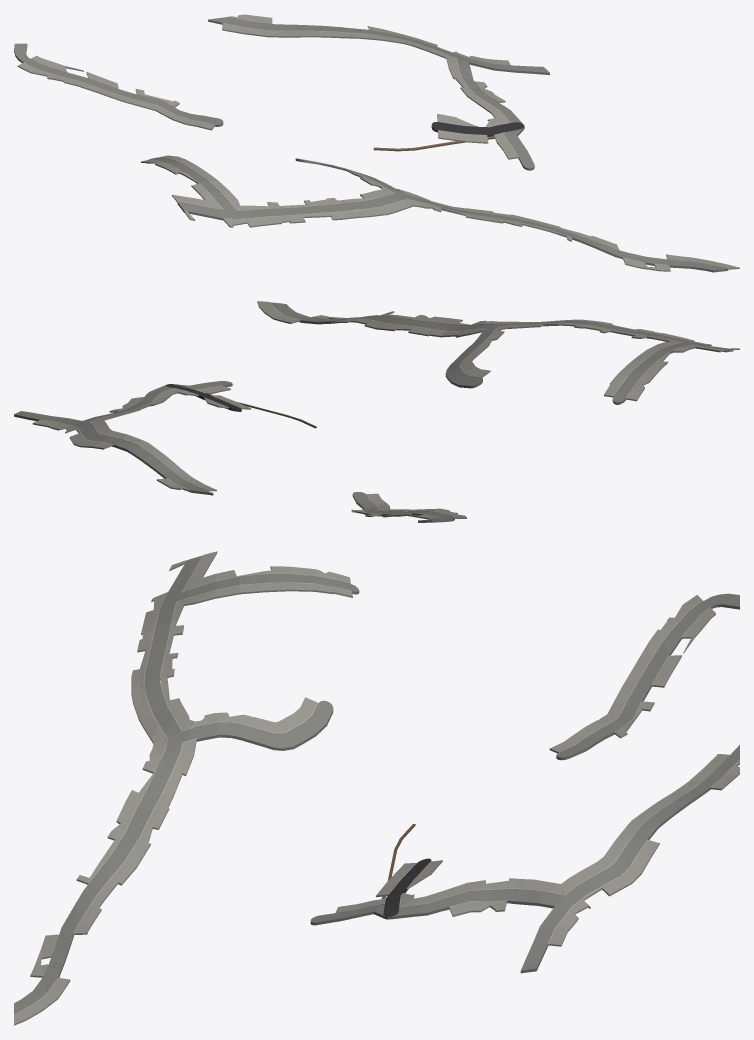
3 views of the same model, one above another, from view 1: azimuth 30°, elevation 25°; view 2: azimuth 150°, elevation 25°; view 3: azimuth 270°, elevation 25° (orthographic). The views are drawn at different scales.
Size of the model in its own units: 293 by 76.01 by 292.
